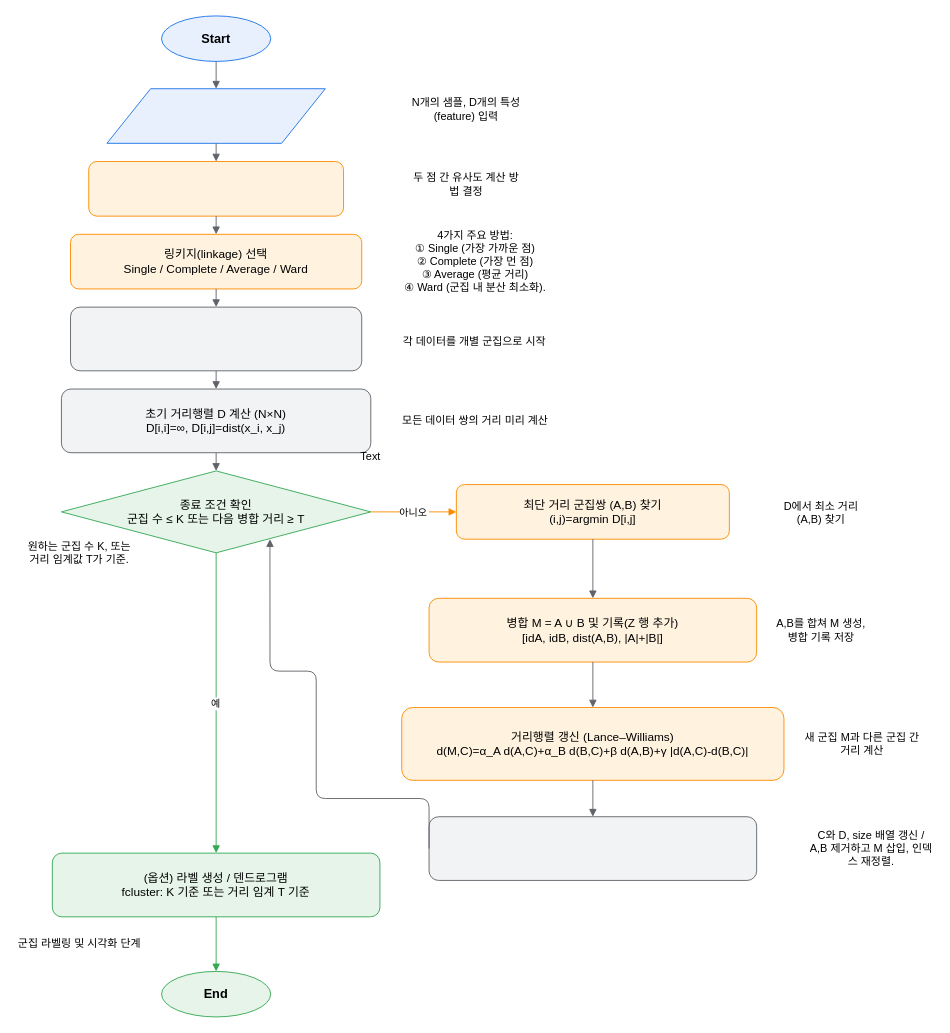
Image size: 950x1033. Some labels were removed from this diagram. Here are the shapes that lost their labels. From the top down, the centre of each, then its label:
At (215,115): "데이터 입력 X (N×D)".
At (216,188): "거리함수 선택 (metric) Euclidean / Manhattan".
At (216,338): "초기 군집 C = { {0}, {1}, …, {N-1} } size[i]=1, id=0..N-1".
At (592,848): "C, D 업데이트 A,B 제거 → M 삽입 (새 id: N, N+1, …) size[M]=|A|+|B|".
